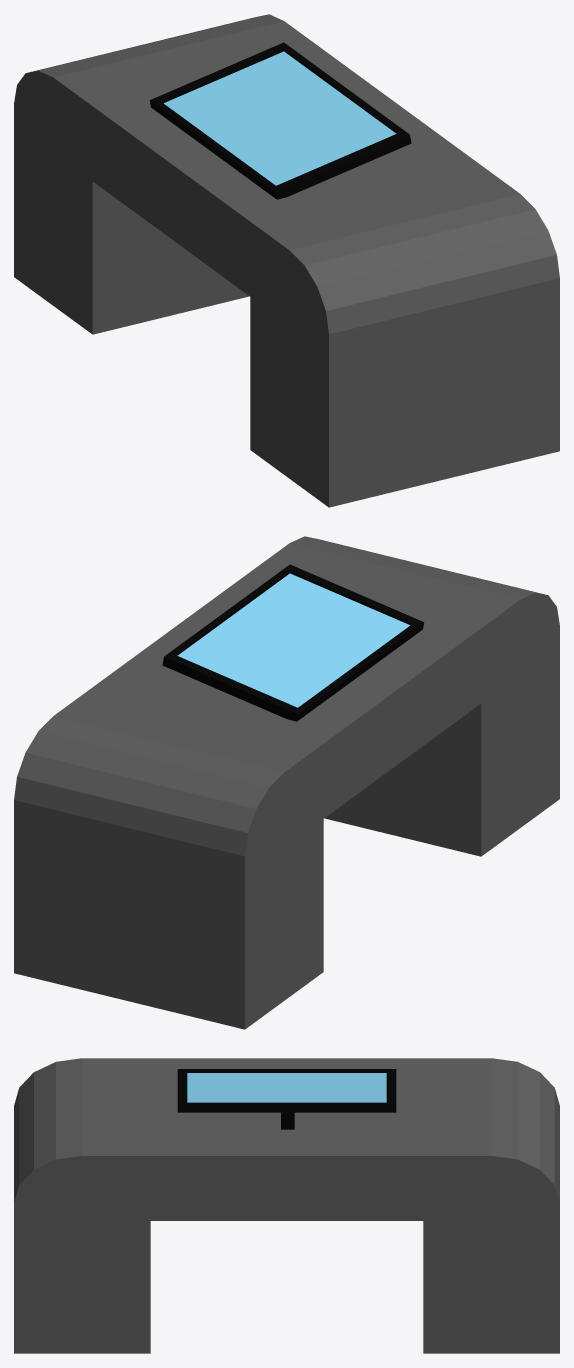
Rendered from Scifi-Table.fbx.
3 views of the same model, one above another, from view 1: azimuth 30°, elevation 25°; view 2: azimuth 150°, elevation 25°; view 3: azimuth 270°, elevation 25° (orthographic). The views are drawn at different scales.
Visible parts, largest first — view 1: Table, Screen; view 2: Table, Screen; view 3: Table, Screen.
Boxes of the visible parts, box(x1,y1,x2,y2) form: Table: box(14, 14, 559, 507); Screen: box(149, 42, 411, 199); Table: box(14, 536, 559, 1029); Screen: box(162, 564, 424, 721); Table: box(14, 1058, 559, 1353); Screen: box(177, 1069, 396, 1129).
Bounding box in the file's own units: 212 × 229 × 500.
